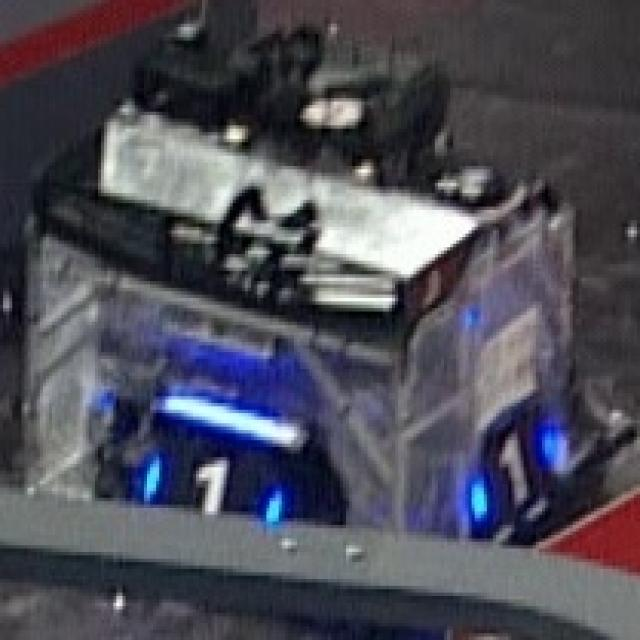B1: (141, 454, 285, 525), (466, 423, 558, 518)
